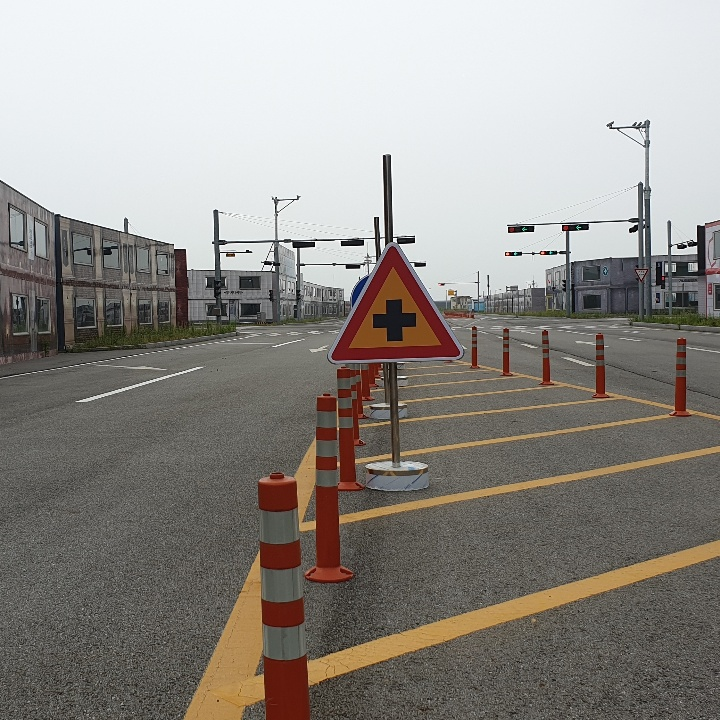inter: (368, 296, 423, 347)
